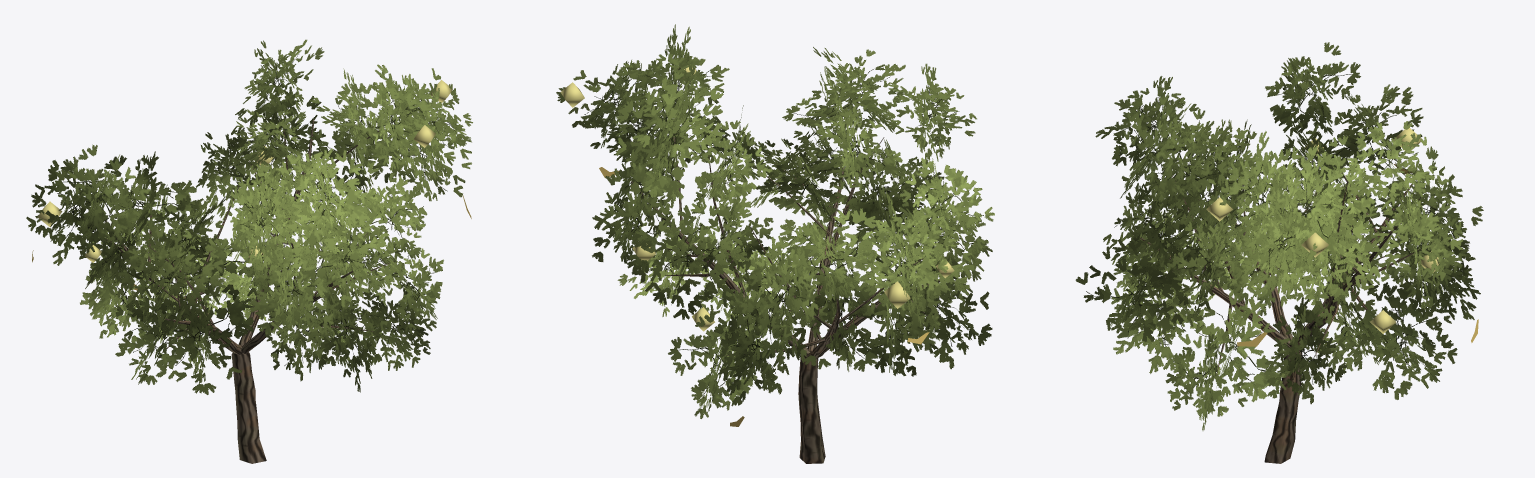
File: young-b.lod1.glb
3 views of the same model, side by side, from view 1: azimuth 30°, elevation 25°; view 2: azimuth 150°, elevation 25°; view 3: azimuth 270°, elevation 25° (orthographic). The views are drawn at different scales.
Parts seen in each view (by area): view 1: foliage, bark, flowers; view 2: foliage, bark, flowers; view 3: foliage, bark, flowers.
Part boxes in pixels (<box>): foliage: <box>26,39,472,394</box>; bark: <box>105,119,395,463</box>; flowers: <box>37,80,452,262</box>; foliage: <box>556,24,994,418</box>; bark: <box>631,137,939,463</box>; flowers: <box>560,67,954,331</box>; foliage: <box>1075,42,1483,430</box>; bark: <box>1140,143,1428,463</box>; flowers: <box>1206,128,1439,333</box>.
Bounding box in the file's own units: 4.09 × 3.5 × 3.71.
4 materials, 2 textured.
